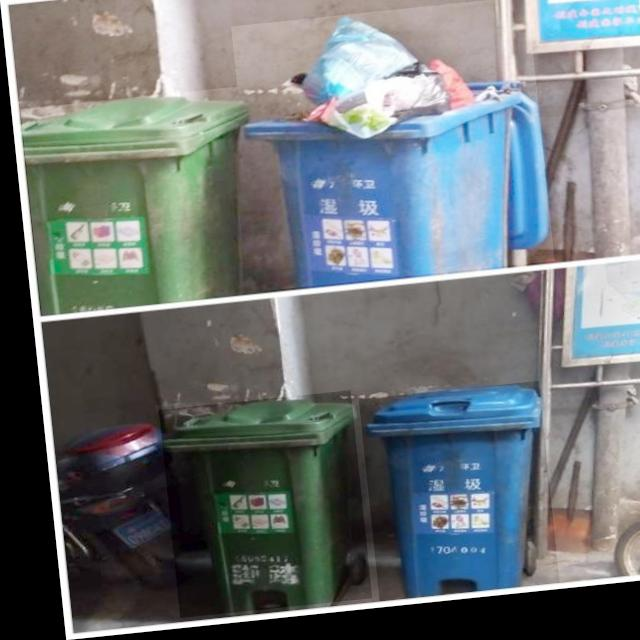garbage_bin: (18, 91, 259, 315), (149, 397, 358, 621), (349, 392, 546, 609)
overflow: (230, 7, 548, 297)
